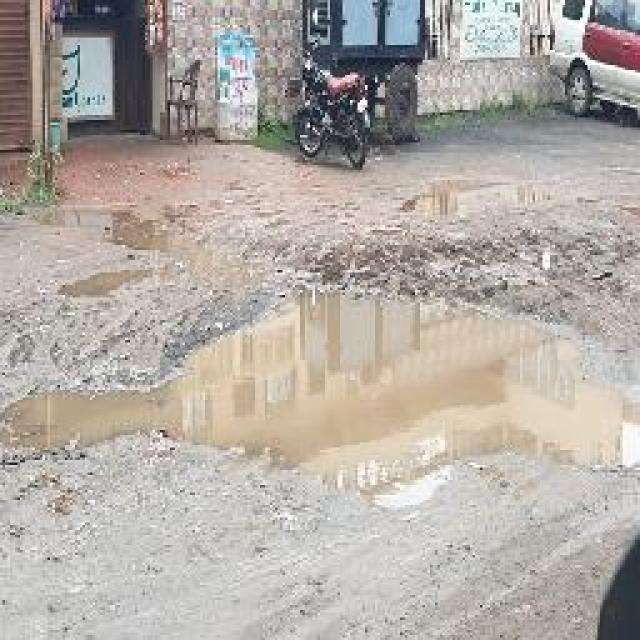stagnation: (0, 266, 640, 507)
